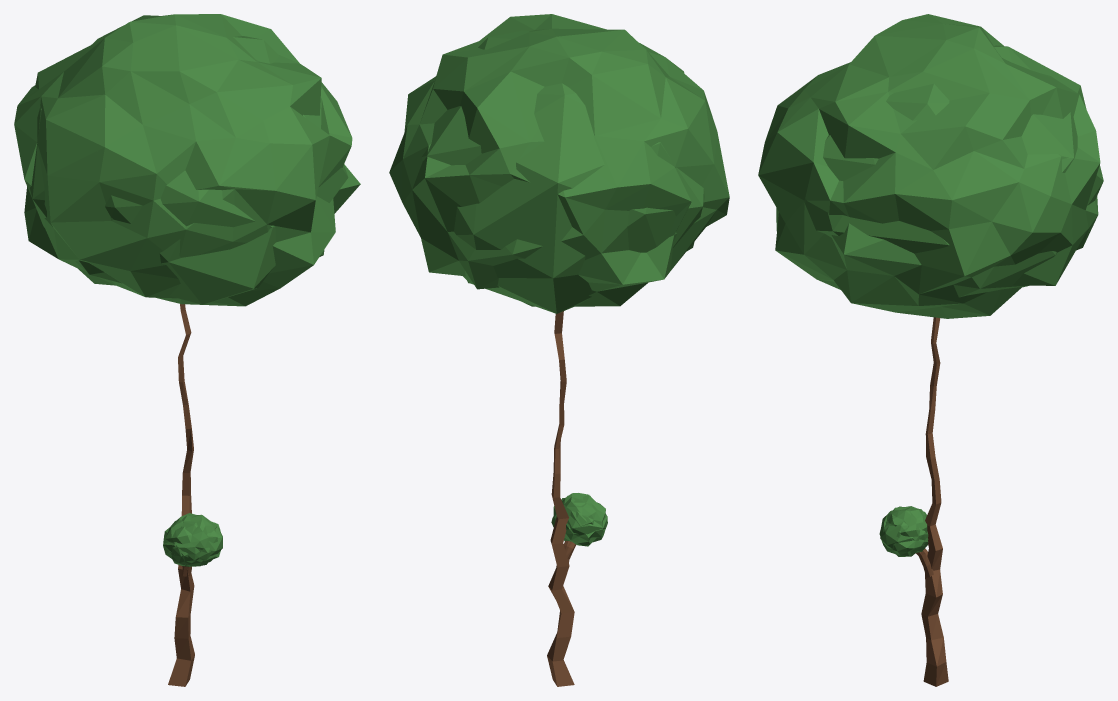
3 views of the same model, side by side, from view 1: azimuth 30°, elevation 25°; view 2: azimuth 150°, elevation 25°; view 3: azimuth 270°, elevation 25° (orthographic).
Visible parts, largest first — view 1: GeneratedLeaves, LOD_Test_1, GeneratedBranch, GeneratedLeaves_1, LOD_Test; view 2: GeneratedLeaves, LOD_Test_1, GeneratedBranch, GeneratedLeaves_1, LOD_Test; view 3: GeneratedLeaves, LOD_Test_1, GeneratedBranch, GeneratedLeaves_1, LOD_Test.
Part boxes in pixels (x1=…): GeneratedLeaves: x1=14, y1=14, x2=360, y2=306; LOD_Test_1: x1=29, y1=36, x2=348, y2=304; GeneratedBranch: x1=168, y1=304, x2=194, y2=686; GeneratedLeaves_1: x1=163, y1=513, x2=220, y2=566; LOD_Test: x1=163, y1=515, x2=222, y2=566; GeneratedLeaves: x1=389, y1=14, x2=729, y2=306; LOD_Test_1: x1=421, y1=30, x2=704, y2=313; GeneratedBranch: x1=547, y1=311, x2=574, y2=686; GeneratedLeaves_1: x1=551, y1=493, x2=607, y2=546; LOD_Test: x1=554, y1=495, x2=607, y2=535; GeneratedLeaves: x1=758, y1=14, x2=1100, y2=318; LOD_Test_1: x1=776, y1=45, x2=1103, y2=297; GeneratedBranch: x1=921, y1=317, x2=948, y2=686; GeneratedLeaves_1: x1=879, y1=506, x2=928, y2=556; LOD_Test: x1=880, y1=507, x2=928, y2=548.
Size of what is drawn, in the model's own units: 2043 by 4218 by 2056.
